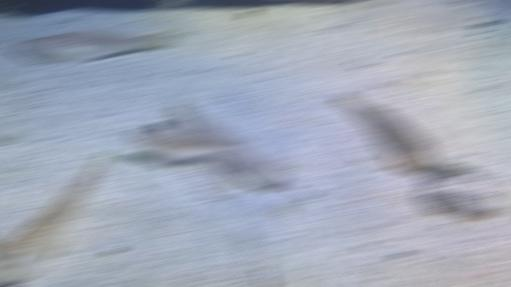Fish: (0, 149, 112, 285), (171, 95, 292, 186), (335, 91, 440, 172), (11, 32, 172, 64), (131, 126, 236, 165), (150, 120, 171, 131), (258, 270, 264, 286)
